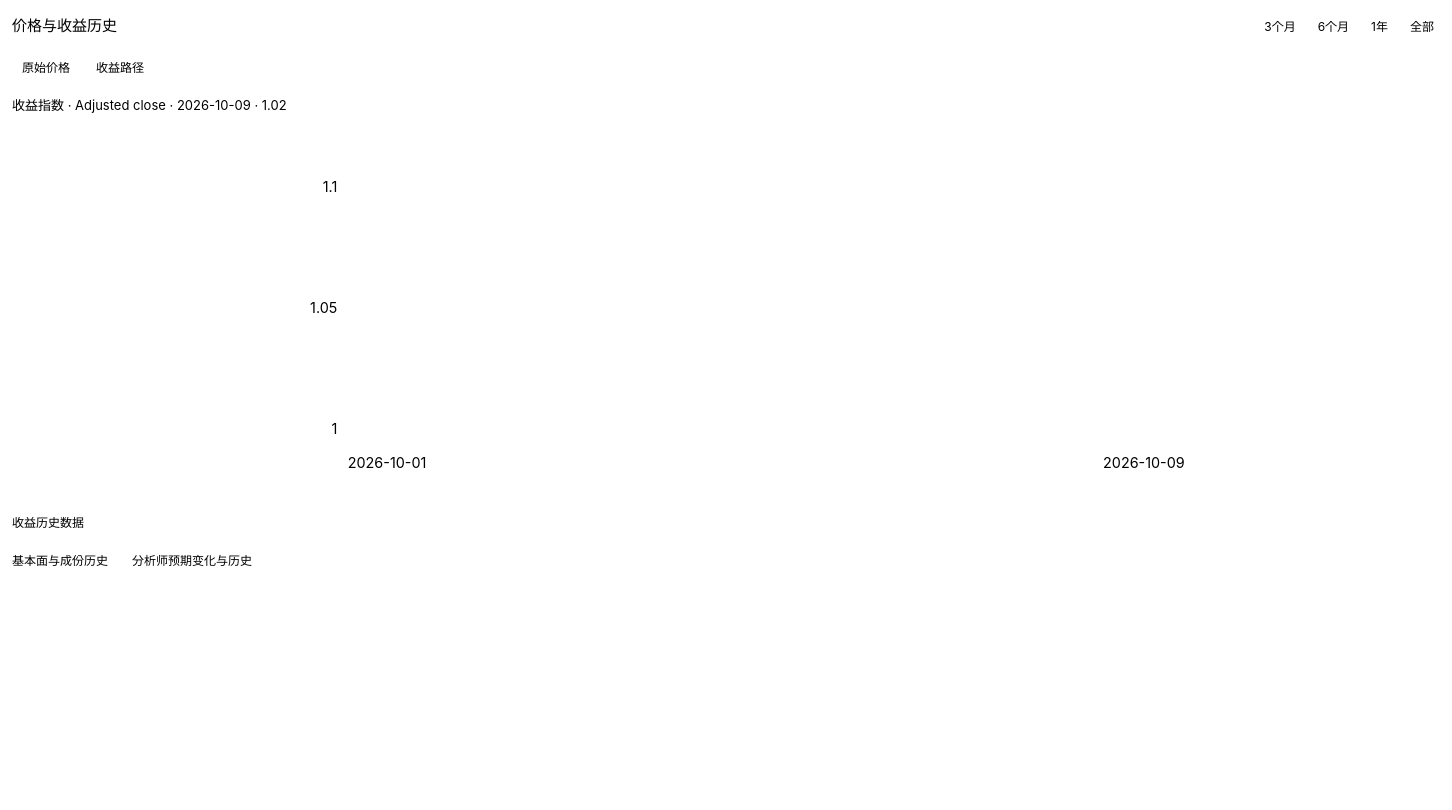
Test: defaults to the canonical return path and keeps raw prices separate
Expected: the picture named "收益历史" is shown, top-left (12, 148), bottom-right (1442, 488)
Click the button "原始价格".
click(46, 68)  # box top-left (12, 52), bottom-right (80, 82)
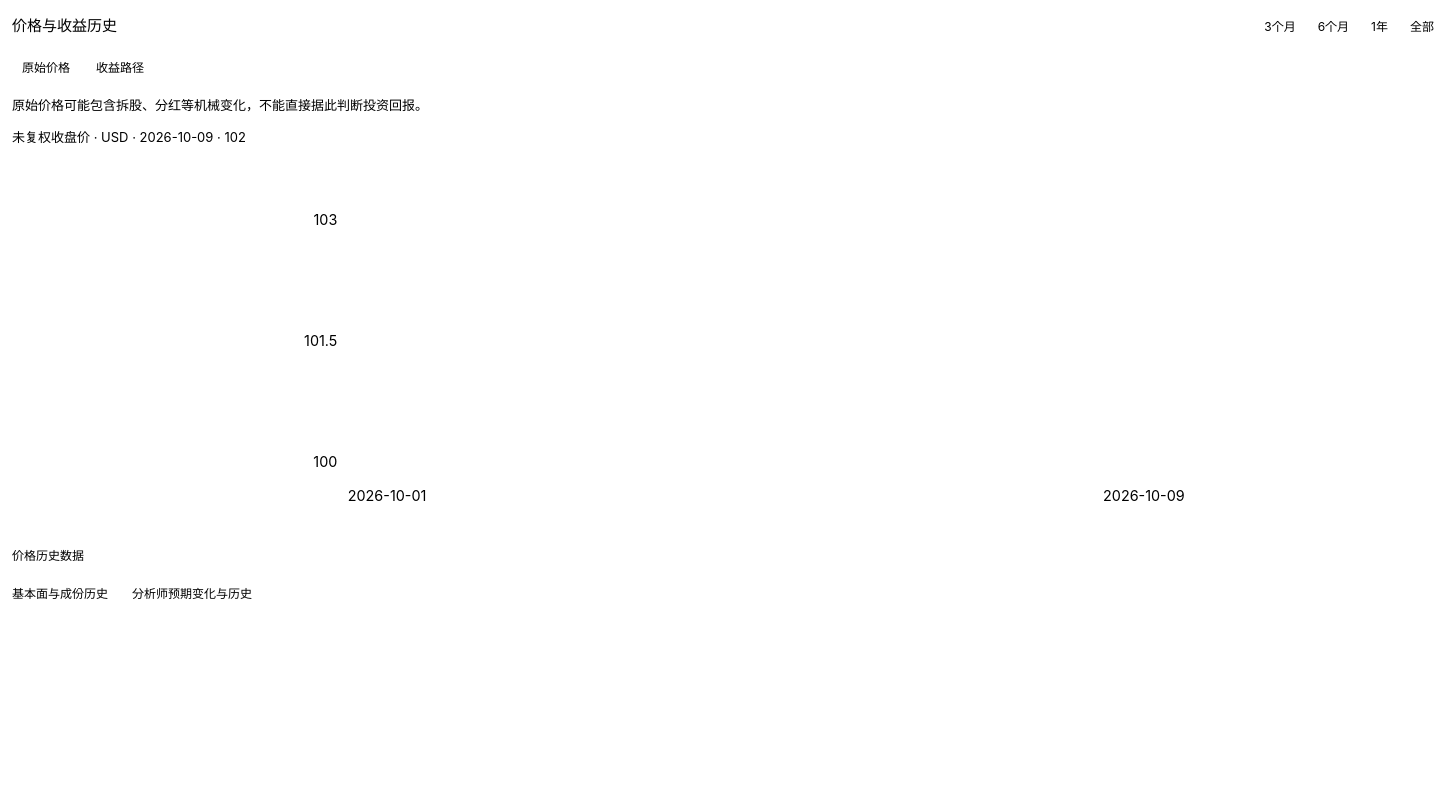
Expected: the picture named "价格历史" is shown, top-left (12, 180), bottom-right (1442, 520)
Expected: the text "原始价格可能包含拆股、分红等机械变化，不能直接据此判断投资回报。" is shown, top-left (12, 96), bottom-right (428, 112)
